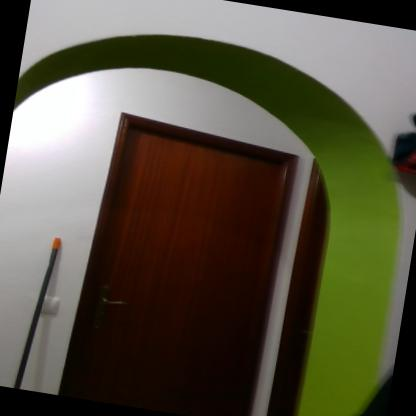closed: (61, 96, 328, 415)
